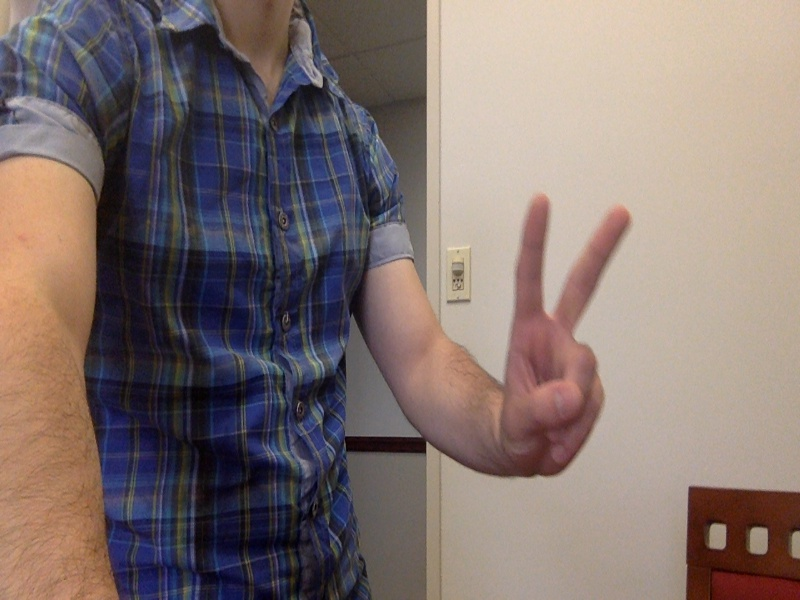2-hand: (500, 193, 638, 481)
